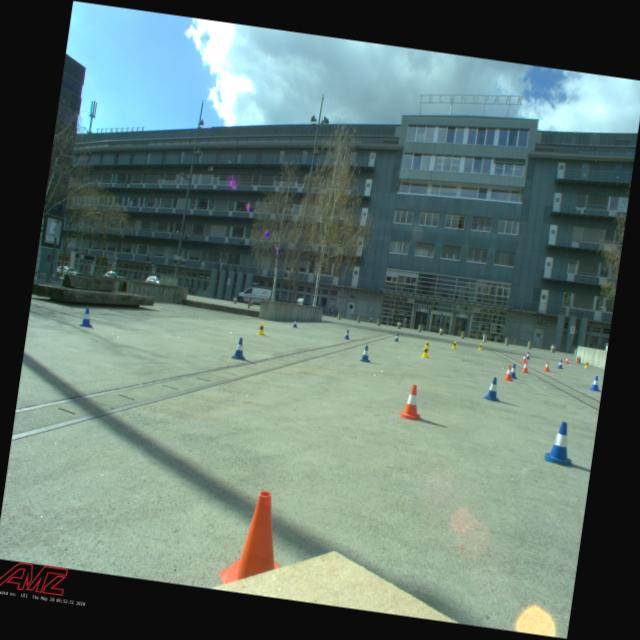blue_cone: (543, 419, 578, 468), (482, 376, 504, 402), (230, 336, 248, 361), (78, 307, 95, 328), (588, 375, 602, 392), (360, 344, 372, 362), (509, 364, 518, 379), (556, 360, 564, 370), (344, 329, 351, 340), (292, 319, 300, 328), (394, 333, 400, 342), (526, 352, 532, 360)
orange_cone: (218, 486, 291, 592), (399, 382, 426, 422), (502, 364, 516, 382), (521, 360, 530, 373), (542, 360, 551, 372), (520, 353, 526, 363), (564, 356, 570, 364)
yellow_cone: (256, 322, 266, 336), (420, 344, 430, 358), (424, 340, 431, 350), (583, 359, 590, 368), (452, 341, 458, 350), (478, 343, 483, 351)
